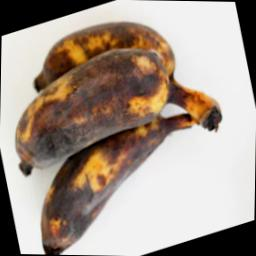Banana Rotten: (3, 0, 244, 239)
